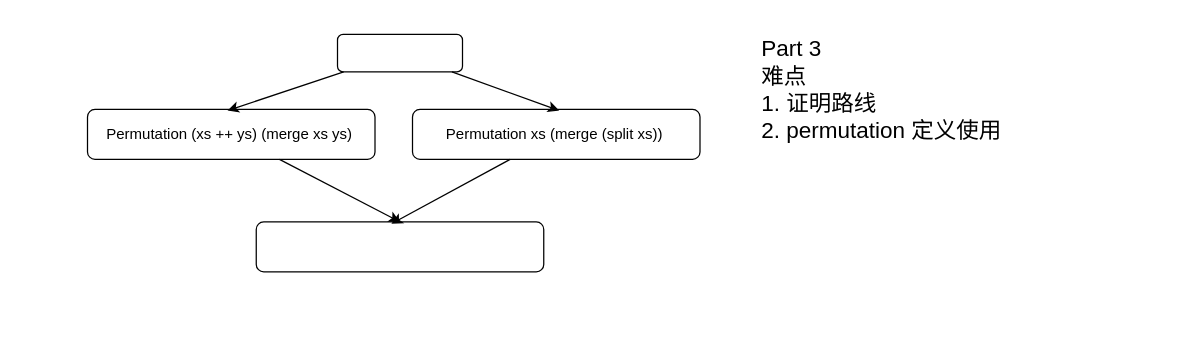
Image size: 1203x355. Some labels were removed from this diagram. Each missing label, with the centre of its shape:
"permutation" belongs at point (399, 52).
"Permutation xs (mergesort xs)" belongs at point (399, 246).
